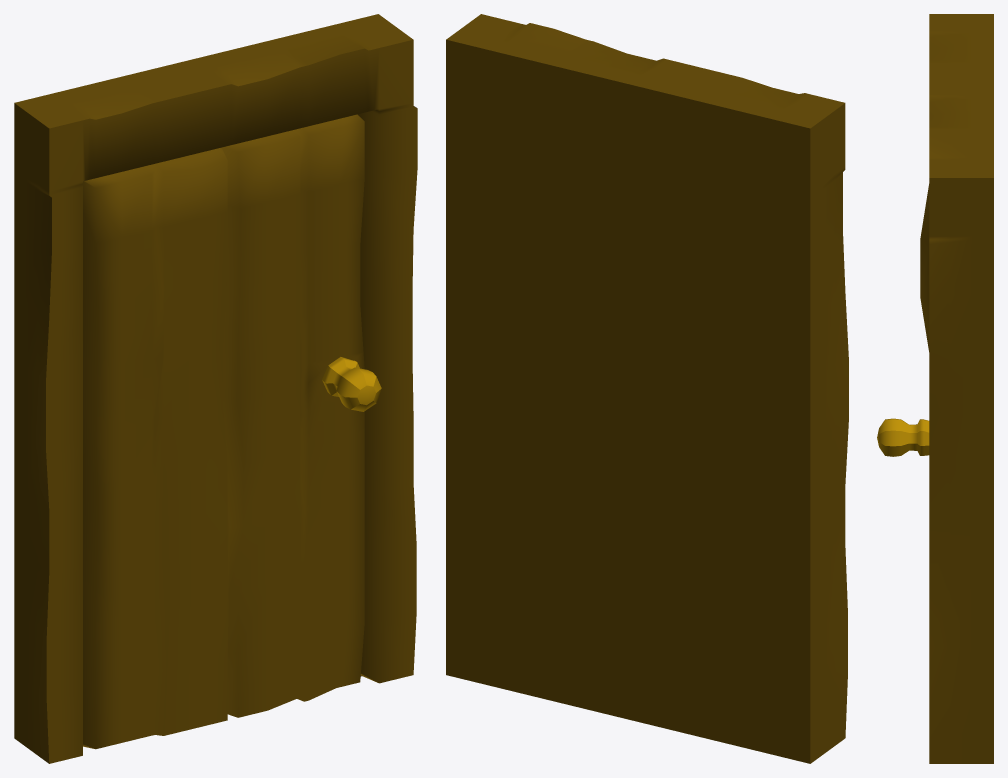
Rendered from Door.fbx.
3 renders of one model, left to right at view 1: azimuth 30°, elevation 25°; view 2: azimuth 150°, elevation 25°; view 3: azimuth 270°, elevation 25°, orthographic. The views are drawn at different scales.
Parts seen in each view (by area): view 1: pCylinder2; view 2: pCylinder2; view 3: pCylinder2.
Part boxes in pixels (box(x1,y1,x2,y2)): pCylinder2: box(14, 14, 417, 763); pCylinder2: box(446, 14, 848, 763); pCylinder2: box(877, 14, 993, 763).
Size of the model in its own units: 6.13 by 10.05 by 1.81.
